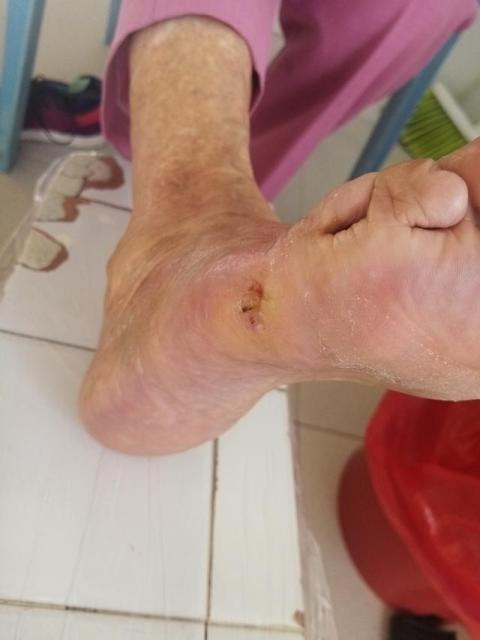wound: (234, 278, 267, 333)
